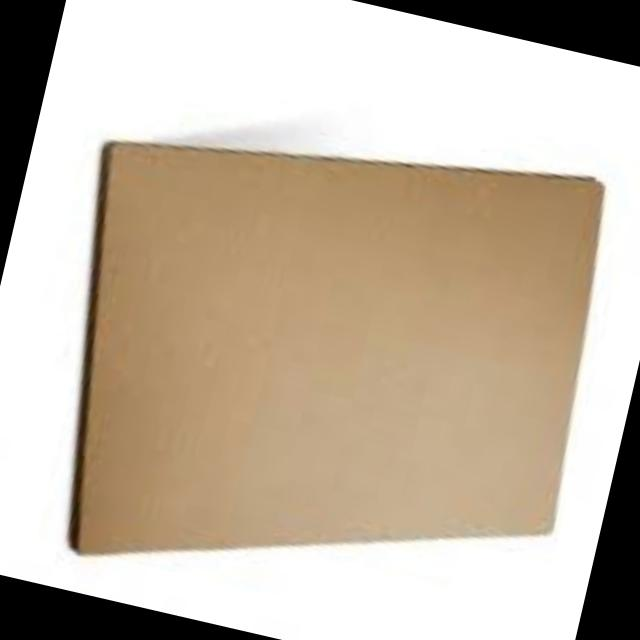cardboard paper: (78, 147, 606, 557)
